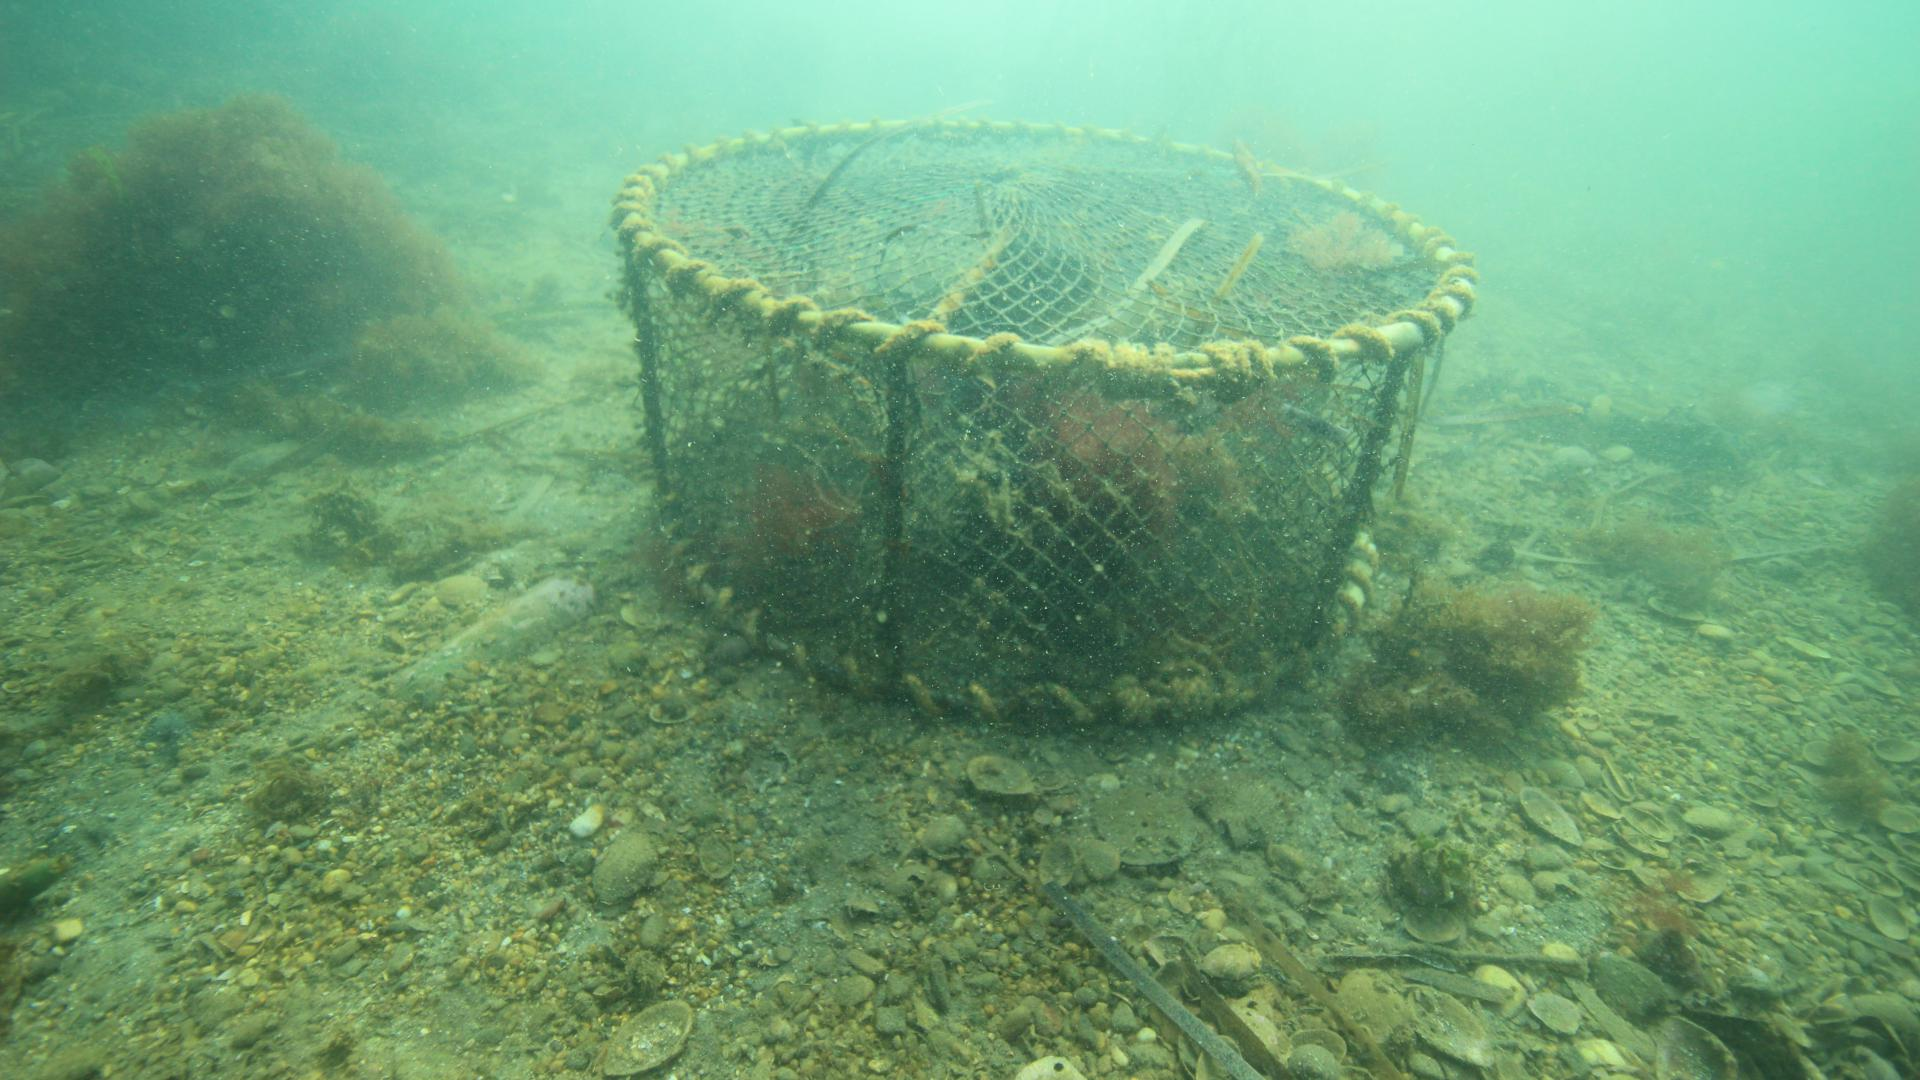circular fish trap: (612, 115, 1476, 723)
